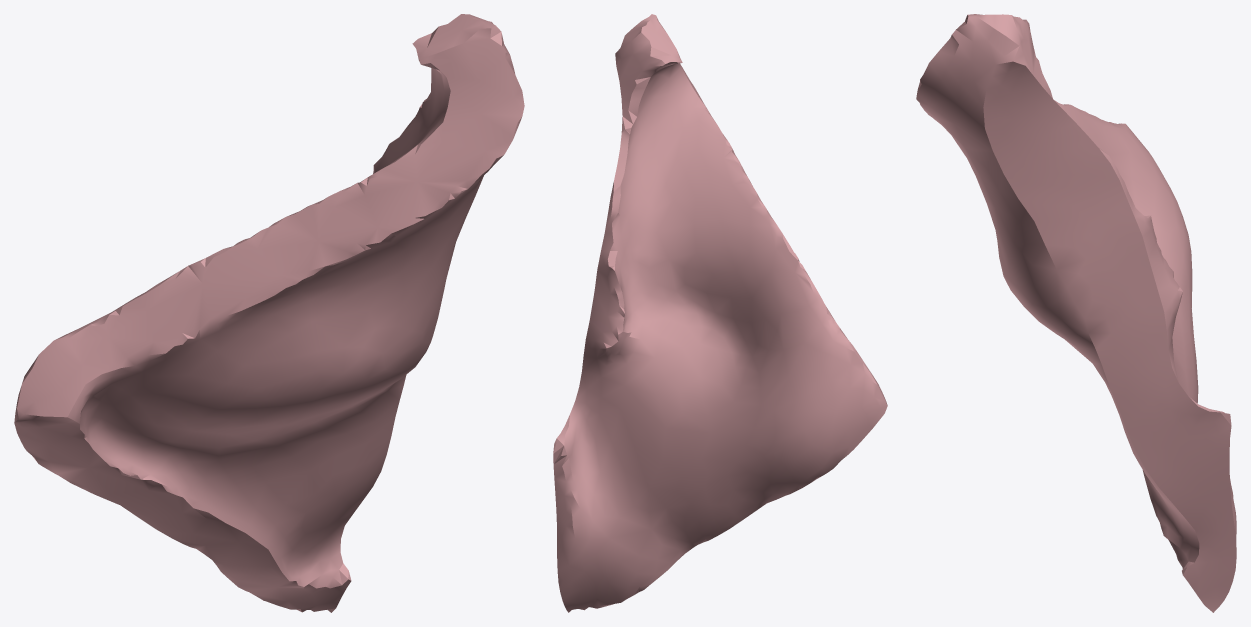
File: fma74887-r_mm3143m.glb
3 renders of one model, left to right at view 1: azimuth 30°, elevation 25°; view 2: azimuth 150°, elevation 25°; view 3: azimuth 270°, elevation 25°, orthographic. The views are drawn at different scales.
Parts seen in each view (by area): view 1: FMA74887-R_MM3143M; view 2: FMA74887-R_MM3143M; view 3: FMA74887-R_MM3143M.
Part boxes in pixels (box(x1,y1,x2,y2)): FMA74887-R_MM3143M: box(14, 14, 524, 612); FMA74887-R_MM3143M: box(553, 14, 887, 612); FMA74887-R_MM3143M: box(916, 14, 1236, 612).
Size of the model in its own units: 0.0187 by 0.0291 by 0.0139.
